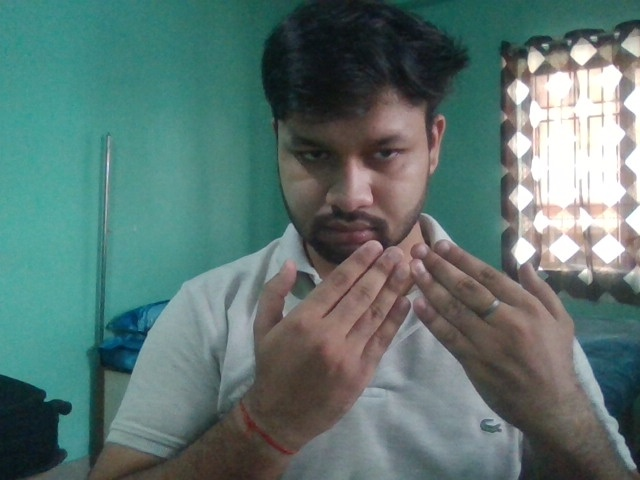Thank You: (247, 237, 578, 452)
